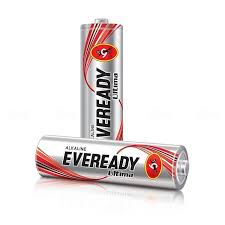battery: (28, 19, 196, 188)
